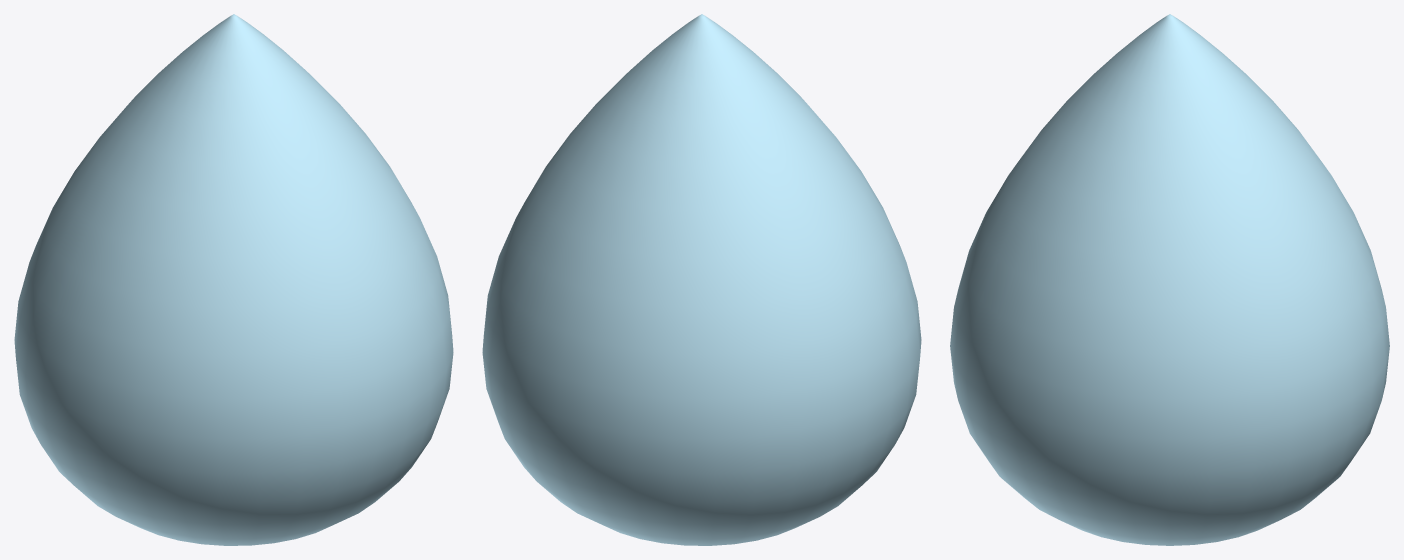
File: SM_WaterDrop.fbx
3 views of the same model, side by side, from view 1: azimuth 30°, elevation 25°; view 2: azimuth 150°, elevation 25°; view 3: azimuth 270°, elevation 25° (orthographic).
Visible parts, largest first — view 1: SM_WaterDrop; view 2: SM_WaterDrop; view 3: SM_WaterDrop.
Boxes of the visible parts, x1,y1,x2,y2 form: SM_WaterDrop: (14,14,453,545); SM_WaterDrop: (482,14,921,545); SM_WaterDrop: (950,14,1389,545).
Bounding box in the file's own units: 0.2515 × 0.32 × 0.2515.
